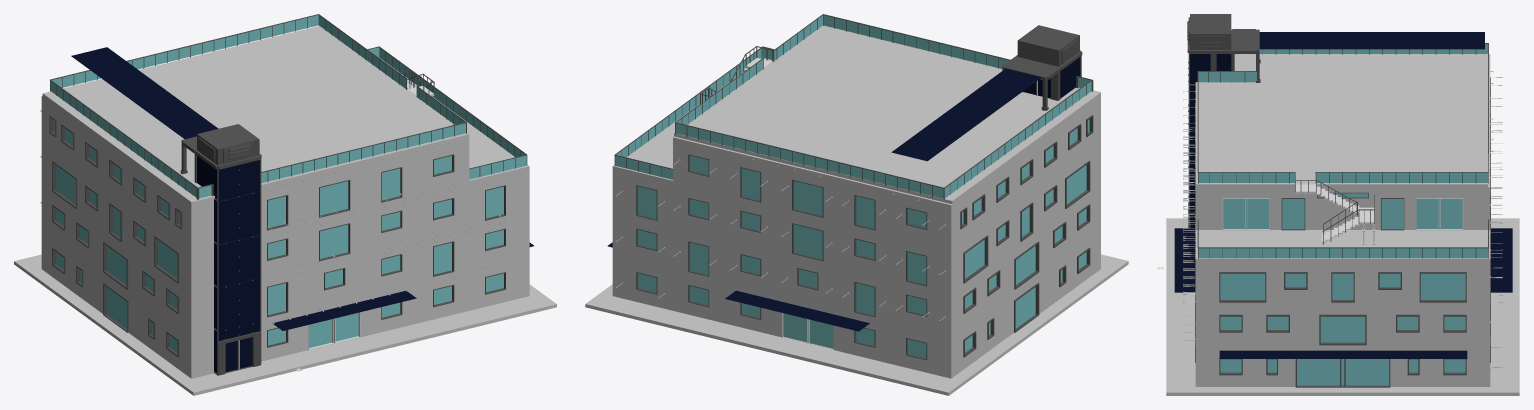
The model's file is writingbuilding.FBX.
The picture shows the model from 3 angles, left to right: view 1: azimuth 30°, elevation 25°; view 2: azimuth 150°, elevation 25°; view 3: azimuth 270°, elevation 25°; orthographic projection.
Parts seen in each view (by area): view 1: 0_curve_.002, Plane.007, Plane.008, Plane.038, Plane.011, 0_curve_.015, Cube, Plane.003, Plane.014, 0_curve_.006, Cube.004, Plane.006 (+9 smaller); view 2: 0_curve_.002, Plane.007, Plane.008, Plane.038, Plane.012, 0_curve_.015, Plane.003, Plane.014, Cube, 0_curve_.009, Plane.026, Plane.029 (+3 smaller); view 3: Plane.007, 0_curve_.002, Plane.008, Plane.013, Plane.028, Plane.038, Plane.015, Cube, 0_curve_.005, Plane.003, 0_curve_.016, Plane.029 (+9 smaller).
Boxes of the visible parts, x1,y1,x2,y2 form: 0_curve_.002: [41, 58, 529, 378]; Plane.007: [42, 26, 469, 205]; Plane.008: [14, 254, 556, 395]; Plane.038: [50, 15, 465, 198]; Plane.011: [268, 186, 503, 347]; 0_curve_.015: [49, 115, 182, 357]; Cube: [180, 124, 261, 375]; Plane.003: [71, 47, 218, 138]; Plane.014: [53, 119, 180, 352]; 0_curve_.006: [267, 154, 505, 347]; Cube.004: [218, 278, 259, 340]; Plane.006: [268, 156, 451, 228]; 0_curve_.002: [612, 57, 1100, 378]; Plane.007: [674, 25, 1100, 204]; Plane.008: [585, 254, 1128, 395]; Plane.038: [675, 15, 1091, 198]; Plane.012: [638, 186, 926, 358]; 0_curve_.015: [960, 115, 1093, 357]; Plane.003: [891, 68, 1041, 161]; Plane.014: [962, 119, 1089, 352]; Cube: [1002, 25, 1082, 110]; 0_curve_.009: [636, 154, 875, 347]; Plane.026: [690, 155, 926, 228]; Plane.029: [615, 47, 773, 179]; Plane.007: [1195, 54, 1487, 187]; 0_curve_.002: [1195, 54, 1490, 386]; Plane.008: [1166, 218, 1519, 395]; Plane.013: [1220, 273, 1465, 385]; Plane.028: [1198, 230, 1487, 247]; Plane.038: [1198, 44, 1488, 182]; Plane.015: [1223, 193, 1462, 229]; Cube: [1187, 14, 1260, 228]; 0_curve_.005: [1199, 187, 1368, 229]; Plane.003: [1259, 32, 1484, 49]; 0_curve_.016: [1219, 272, 1466, 387]; Plane.029: [1198, 248, 1487, 258].
Size of the model in its own units: 1397 by 830 by 1211.
